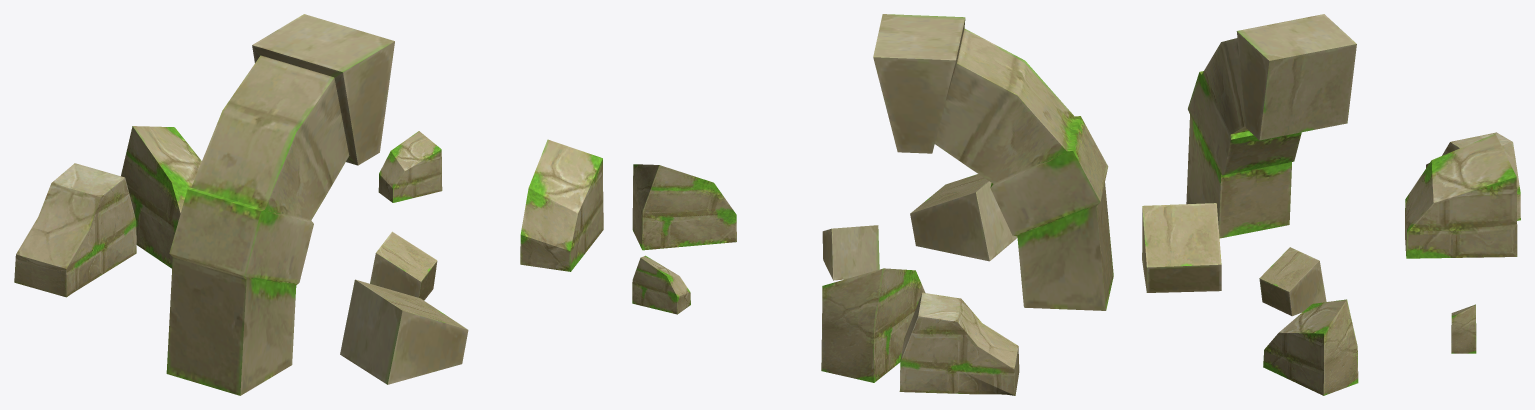
Rendered from stone40.FBX.
The picture shows the model from 3 angles, left to right: view 1: azimuth 30°, elevation 25°; view 2: azimuth 150°, elevation 25°; view 3: azimuth 270°, elevation 25°; orthographic projection. The views are drawn at different scales.
Visible parts, largest first — view 1: stone40; view 2: stone40; view 3: stone40.
Boxes of the visible parts, x1=… form: stone40: x1=14, y1=14, x2=603, y2=395; stone40: x1=632, y1=14, x2=1113, y2=395; stone40: x1=1142, y1=14, x2=1520, y2=395.
Bounding box in the file's own units: 666 × 342 × 502.
